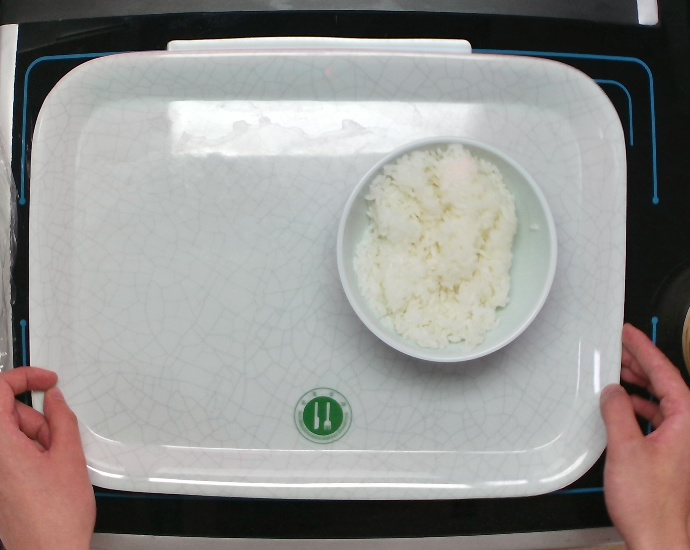JYsf-Fan_Wan: (334, 133, 559, 364)
